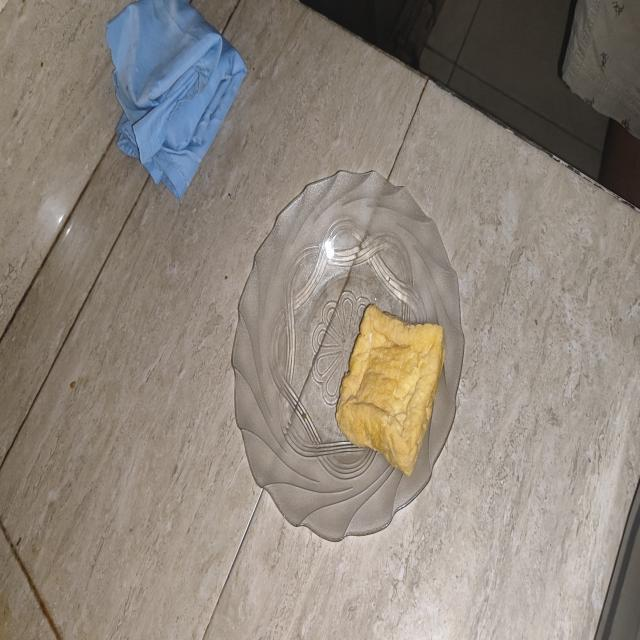tahu_goreng: (336, 304, 445, 476)
